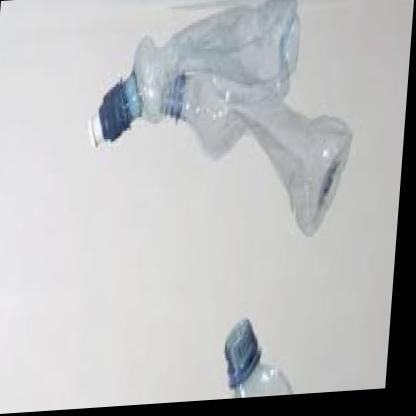Plastic: (44, 0, 372, 299)
